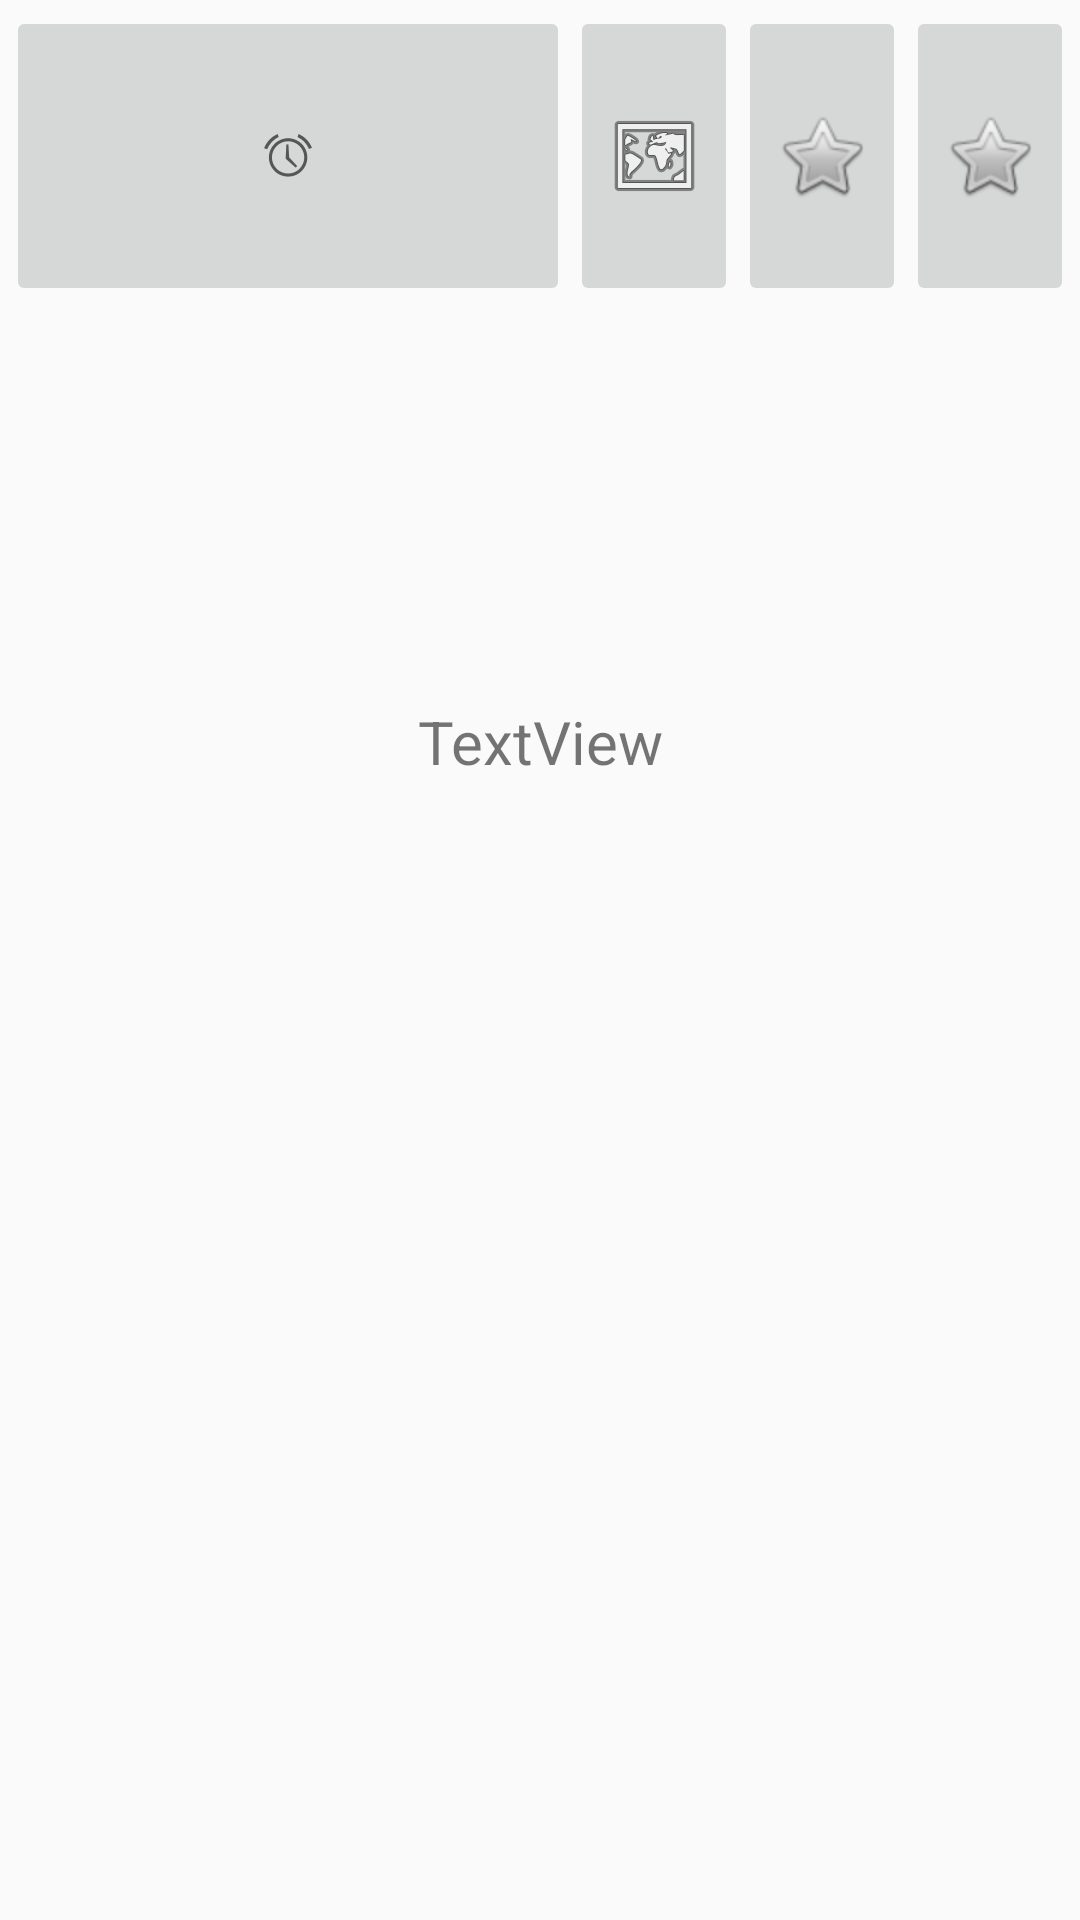

Where icons sit on this 1080×1920 app screen, as (x1, y1, x2, y2):
mapmode: (582, 24, 726, 288)
star: (750, 24, 894, 288), (918, 24, 1062, 288)
